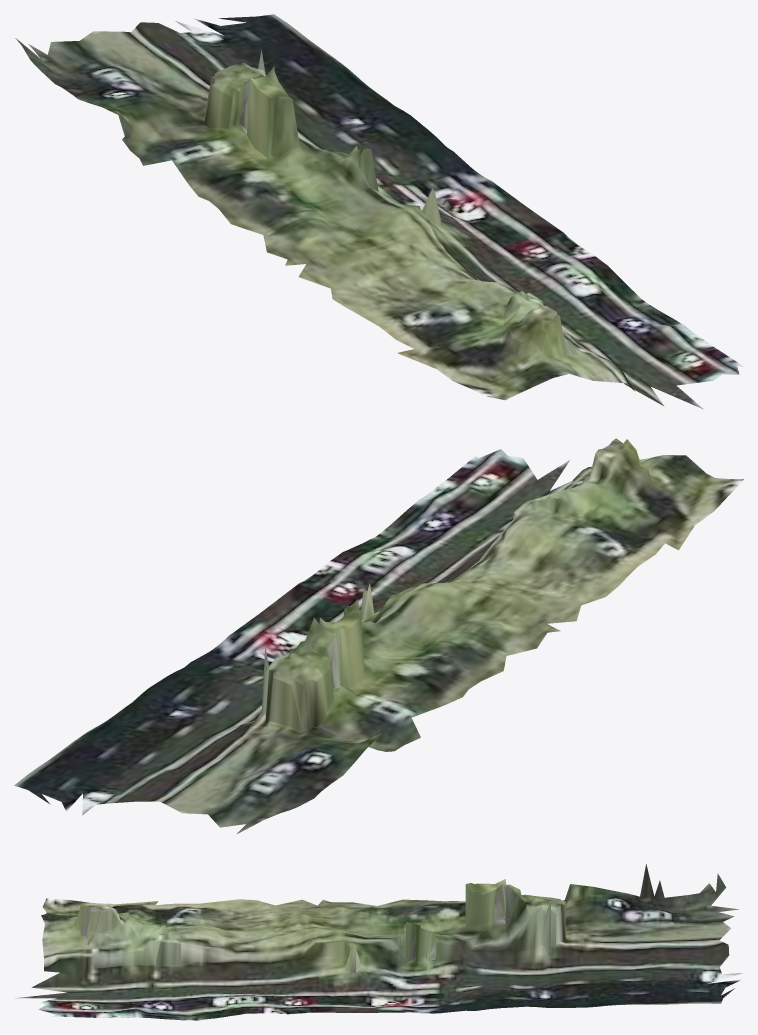
File: Tile_001_003_L14_343.glb
3 views of the same model, one above another, from view 1: azimuth 30°, elevation 25°; view 2: azimuth 150°, elevation 25°; view 3: azimuth 270°, elevation 25° (orthographic). The views are drawn at different scales.
Parts seen in each view (by area): view 1: rtc; view 2: rtc; view 3: rtc.
Part boxes in pixels (x1,y1,x2,y2): rtc: (15, 14, 743, 409); rtc: (14, 438, 743, 833); rtc: (15, 864, 742, 1020).
Bounding box in the file's own units: 22.77 × 9.17 × 72.98.
1 material, 1 textured.
